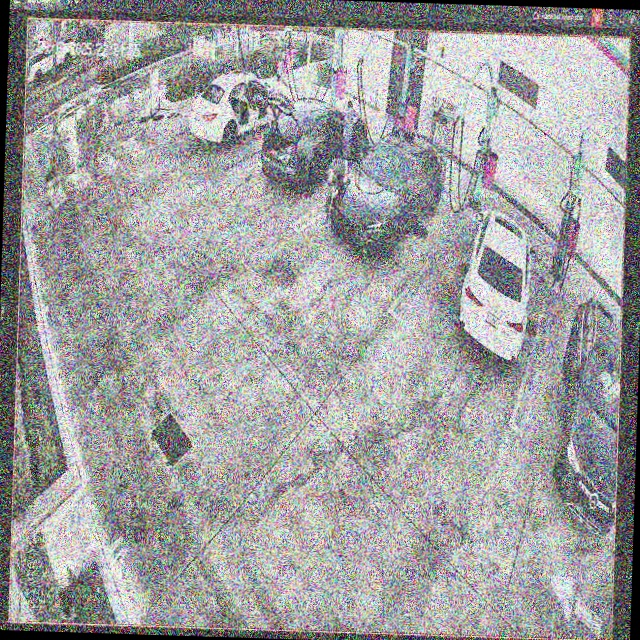Car: (326, 126, 447, 262), (453, 208, 532, 370), (260, 93, 369, 200), (186, 73, 293, 147)
